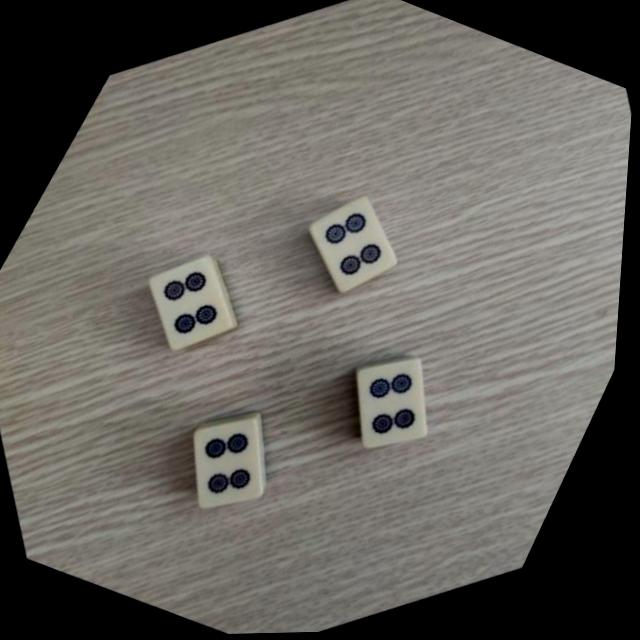sd4: (122, 240, 253, 366), (330, 344, 456, 464), (168, 406, 292, 525), (287, 187, 409, 303)
